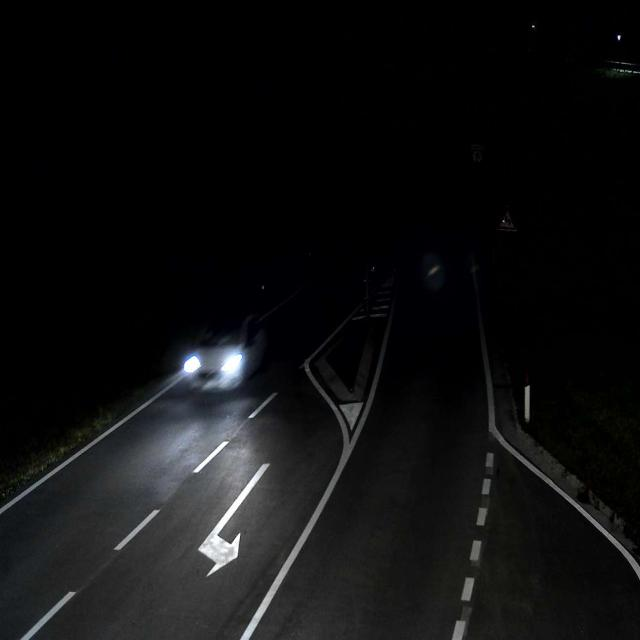car: (180, 312, 268, 394)
